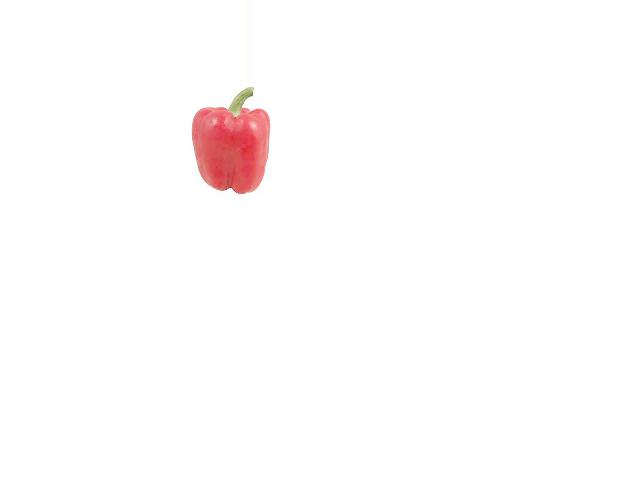bell_pepper: (180, 87, 273, 194)
